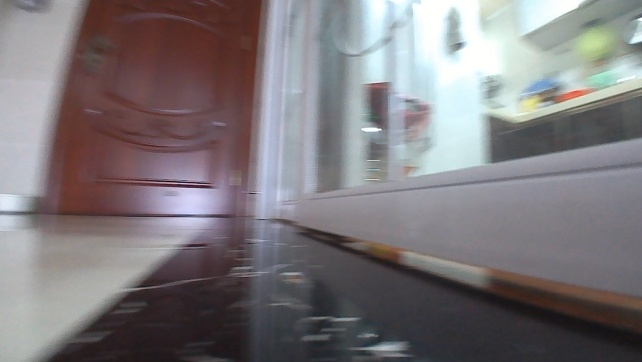door_anno: (31, 0, 274, 218)
